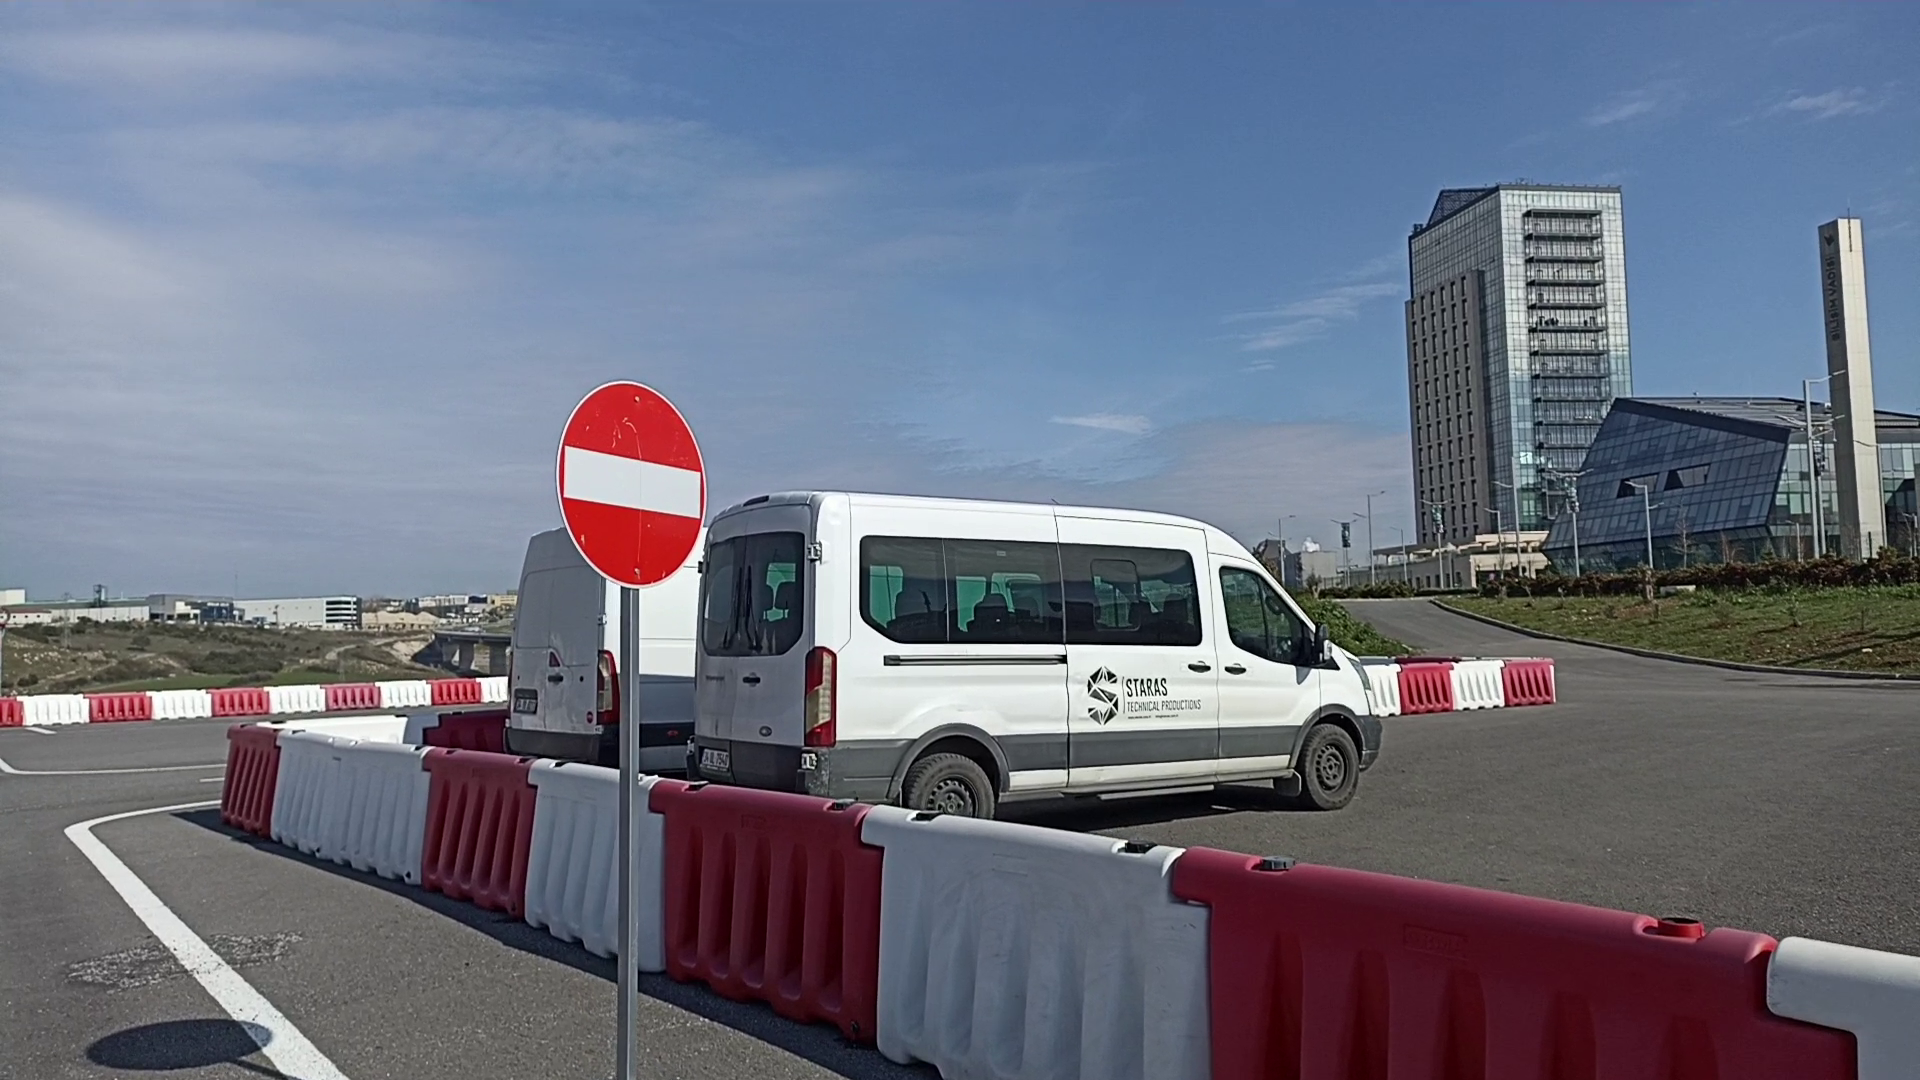noentryway: (550, 376, 711, 591)
